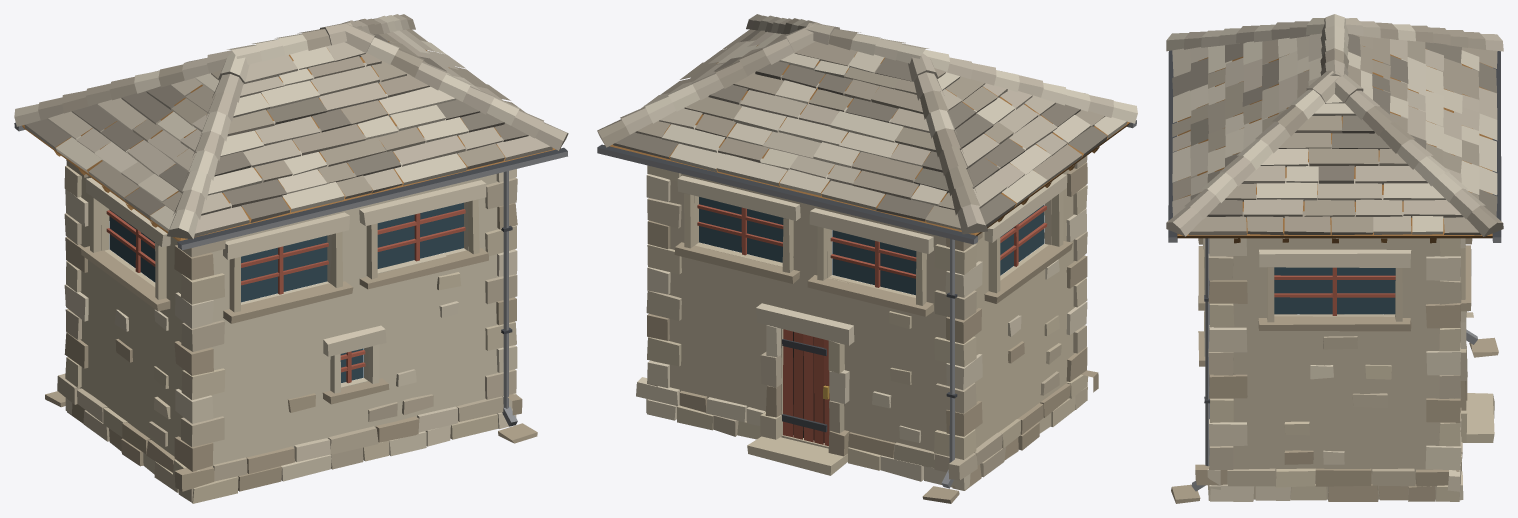
File: poste.glb
The picture shows the model from 3 angles, left to right: view 1: azimuth 30°, elevation 25°; view 2: azimuth 150°, elevation 25°; view 3: azimuth 270°, elevation 25°; orthographic projection. The views are drawn at different scales.
Parts seen in each view (by area): view 1: poste; view 2: poste; view 3: poste.
Boxes of the visible parts, x1,y1,x2,y2 form: poste: [14, 14, 568, 503]; poste: [597, 14, 1137, 503]; poste: [1166, 14, 1503, 503].
Size of the model in its own units: 7.55 by 6.92 by 5.56.
